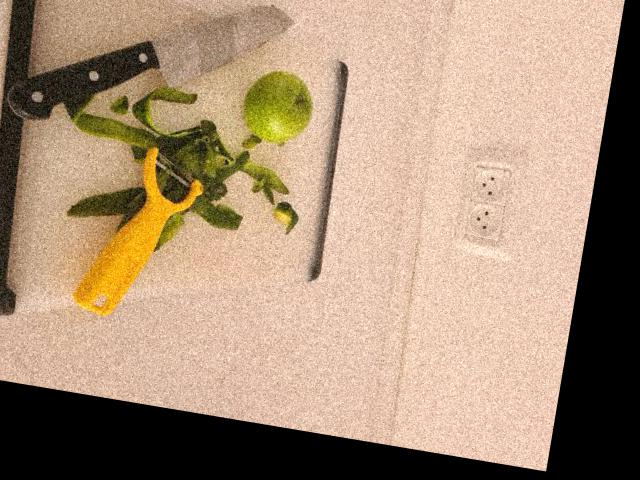apple: (239, 71, 316, 145)
